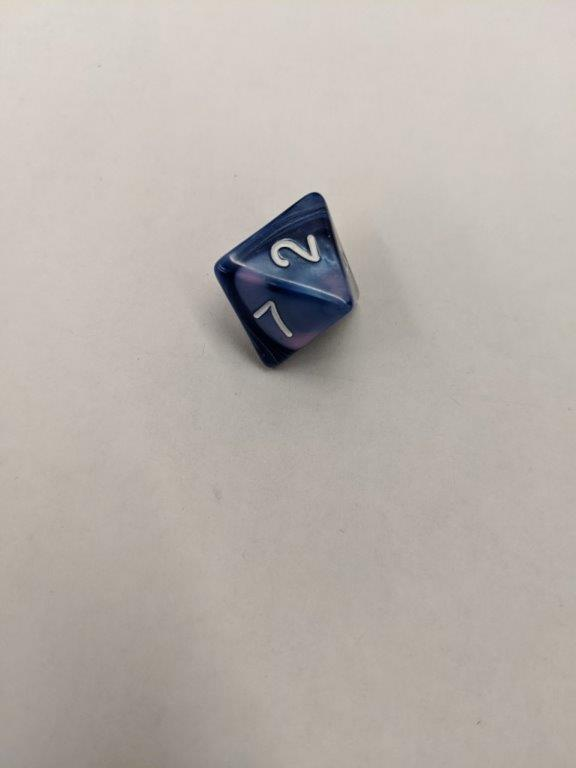d8-2: (210, 191, 362, 374)
